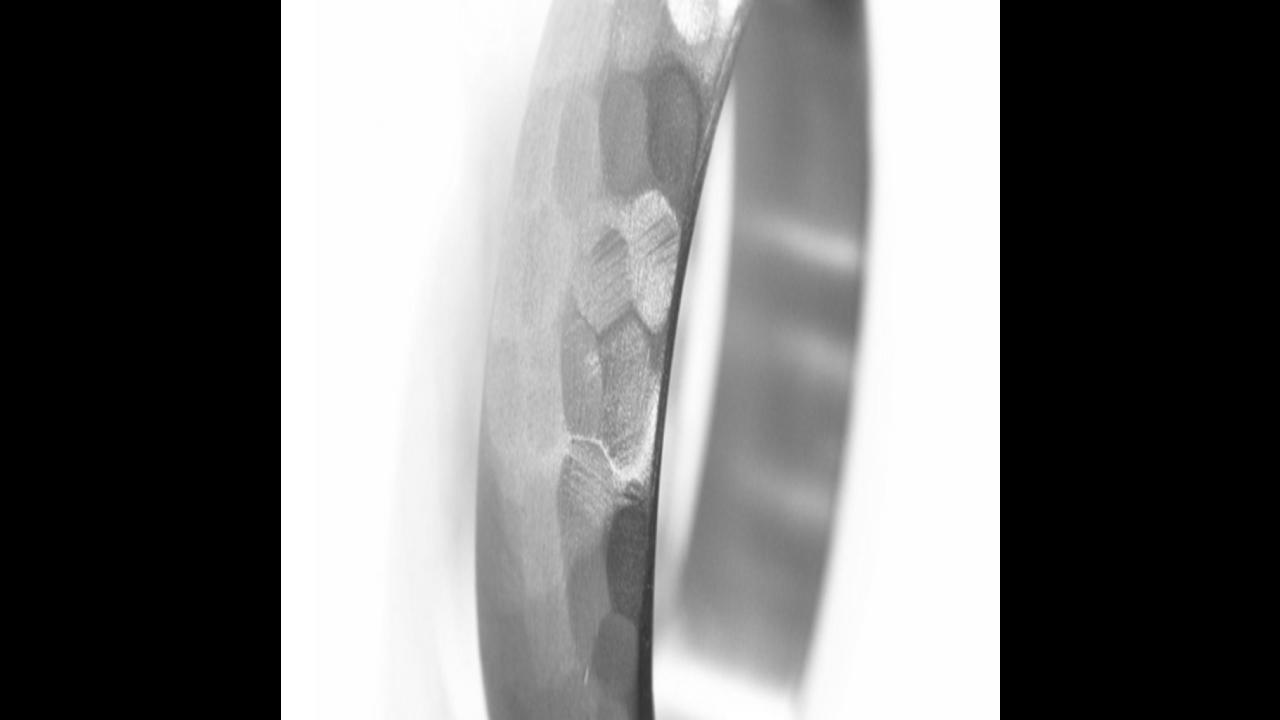ring: (471, 0, 875, 720)
